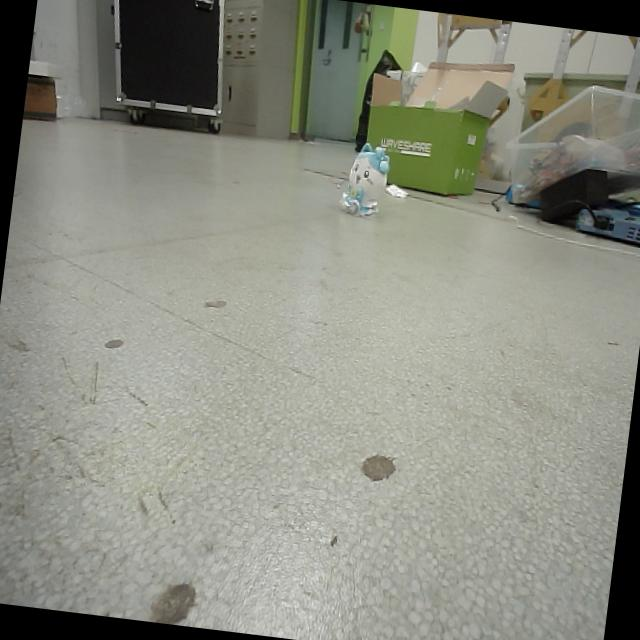xiaoba: (338, 137, 391, 221)
